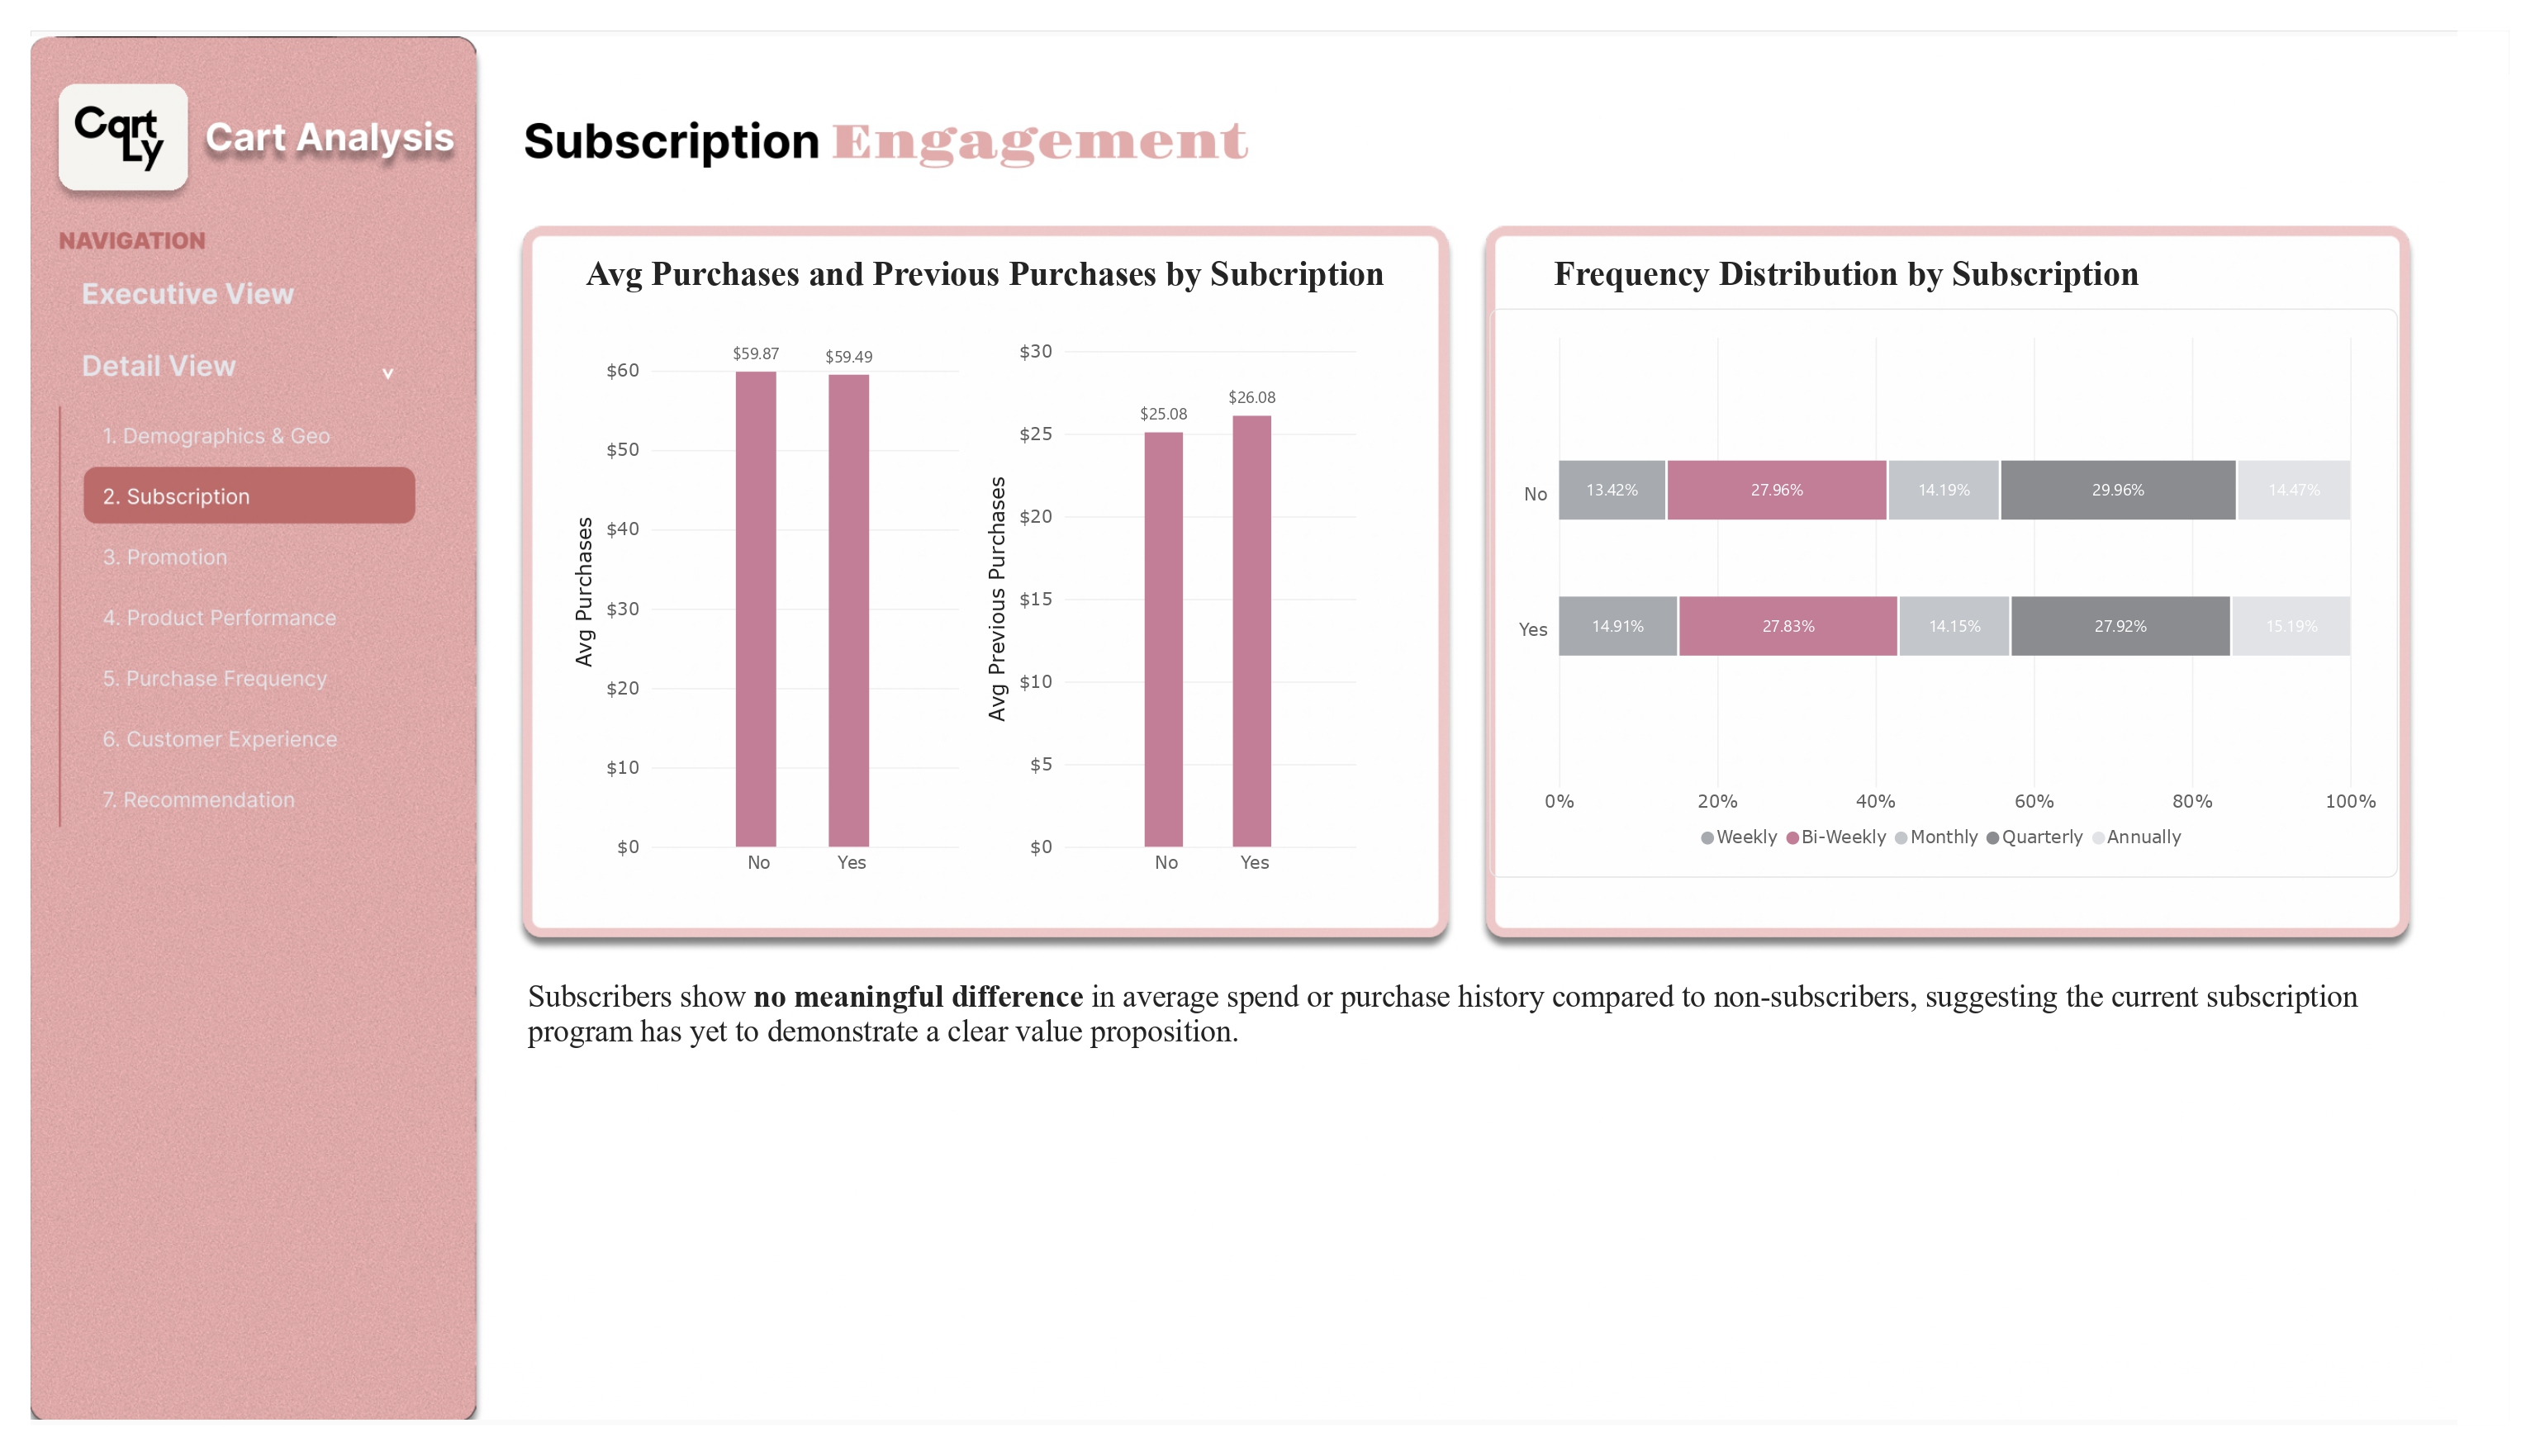

The dashboard page shown, as its layout file describes it:
{"tool":"powerbi","page":{"name":"Subscription Page","canvas":[1920,1080],"ordinal":2},"visuals":[{"type":"image","box":[0,0,1880,1080],"z":0},{"type":"actionButton","box":[21.8,172.9,280.9,52.7],"z":0,"group":"g1"},{"type":"clusteredColumnChart","fields":{"Category":["Customer_Shopping_Behavior_Clean_Update2.subscription_status"],"Y":["Avg(Customer_Shopping_Behavior_Clean_Update2.previous_purchases)"]},"box":[725,225,317.5,447.5],"z":1000},{"type":"actionButton","box":[21.9,231.2,281,52],"z":1000,"group":"g1"},{"type":"textbox","box":[430,173,663.8,42.5],"z":2000},{"type":"actionButton","box":[40.9,287.7,260.5,46],"z":2000,"group":"g1"},{"type":"clusteredColumnChart","fields":{"Category":["Customer_Shopping_Behavior_Clean_Update2.subscription_status"],"Y":["Avg(Customer_Shopping_Behavior_Clean_Update2.purchase_amount_usd)"]},"box":[405,215,330,457.5],"z":3000},{"type":"actionButton","box":[40.9,334.6,260.4,46.1],"z":3000,"group":"g1"},{"type":"hundredPercentStackedBarChart","fields":{"Category":["Customer_Shopping_Behavior_Clean_Update2.subscription_status"],"Series":["Customer_Shopping_Behavior_Clean_Update2.frequency_standardized"],"Y":["CountNonNull(Customer_Shopping_Behavior_Clean_Update2.customer_id)"]},"box":[1130,215,704.3,441.4],"z":4000},{"type":"actionButton","box":[40.9,383.1,260,46.1],"z":4000,"group":"g1"},{"type":"textbox","box":[1180,173,513.3,43.3],"z":5000},{"type":"actionButton","box":[40.9,432.8,260,46],"z":5000,"group":"g1"},{"type":"actionButton","box":[40.9,480.4,260,46],"z":6000,"group":"g1"},{"type":"textbox","box":[385,735,1450,75],"z":6000},{"type":"group","id":"g1","title":"Side Bar","box":[21.8,172.9,280.6,445.3],"z":7000},{"type":"actionButton","box":[40.9,526.4,260,46],"z":7000,"group":"g1"},{"type":"shape","box":[1880,0,40,1080],"z":7001},{"type":"actionButton","box":[40.9,572.5,260,46],"z":8000,"group":"g1"}]}

Visuals, with their boxes on the page's 1920x1080 design canvas (x1, y1, x2, y2). These are canvas units, not pixel positions in the 2540x1456 screenshot, which may show the page scaled, cropped or inside an application window:
image: [left=0, top=0, right=1880, bottom=1080]
actionButton: [left=22, top=173, right=303, bottom=226]
clusteredColumnChart - Customer_Shopping_Behavior_Clean_Update2.subscription_status x Avg(Customer_Shopping_Behavior_Clean_Update2.previous_purchases): [left=725, top=225, right=1042, bottom=672]
actionButton: [left=22, top=231, right=303, bottom=283]
textbox: [left=430, top=173, right=1094, bottom=216]
actionButton: [left=41, top=288, right=301, bottom=334]
clusteredColumnChart - Customer_Shopping_Behavior_Clean_Update2.subscription_status x Avg(Customer_Shopping_Behavior_Clean_Update2.purchase_amount_usd): [left=405, top=215, right=735, bottom=672]
actionButton: [left=41, top=335, right=301, bottom=381]
hundredPercentStackedBarChart - Customer_Shopping_Behavior_Clean_Update2.subscription_status x Customer_Shopping_Behavior_Clean_Update2.frequency_standardized: [left=1130, top=215, right=1834, bottom=656]
actionButton: [left=41, top=383, right=301, bottom=429]
textbox: [left=1180, top=173, right=1693, bottom=216]
actionButton: [left=41, top=433, right=301, bottom=479]
actionButton: [left=41, top=480, right=301, bottom=526]
textbox: [left=385, top=735, right=1835, bottom=810]
"Side Bar" group: [left=22, top=173, right=302, bottom=618]
actionButton: [left=41, top=526, right=301, bottom=572]
shape: [left=1880, top=0, right=1920, bottom=1080]
actionButton: [left=41, top=572, right=301, bottom=618]
